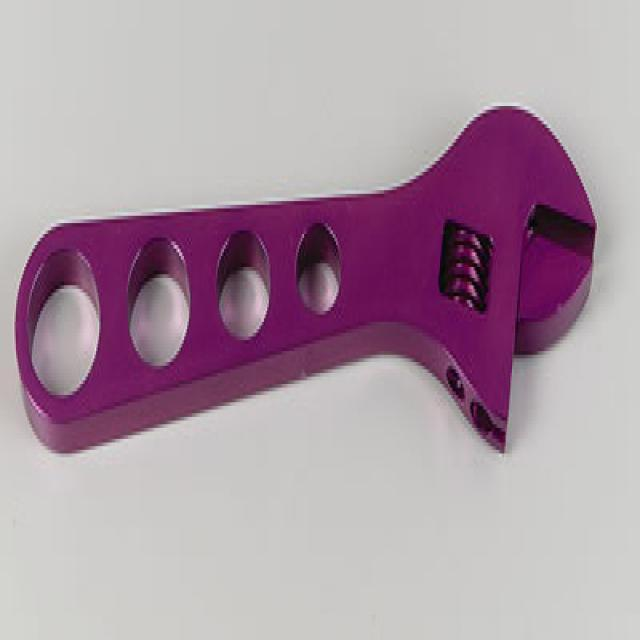wrench: (11, 90, 600, 467)
